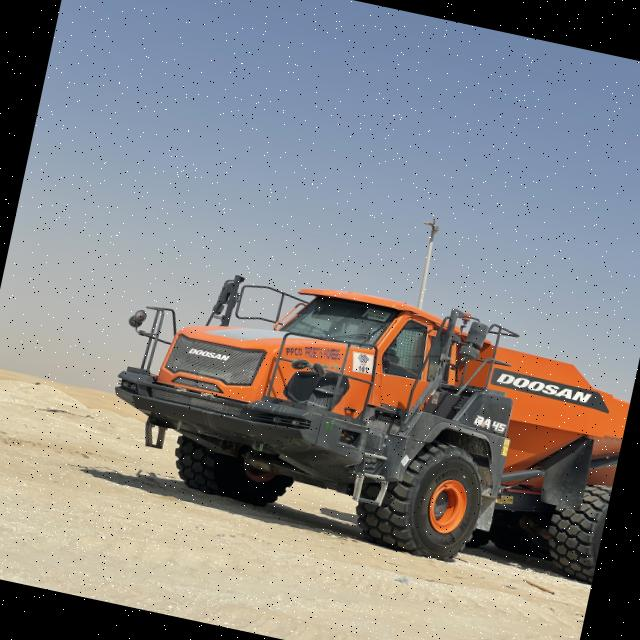Dump Truck: (81, 233, 640, 599)
